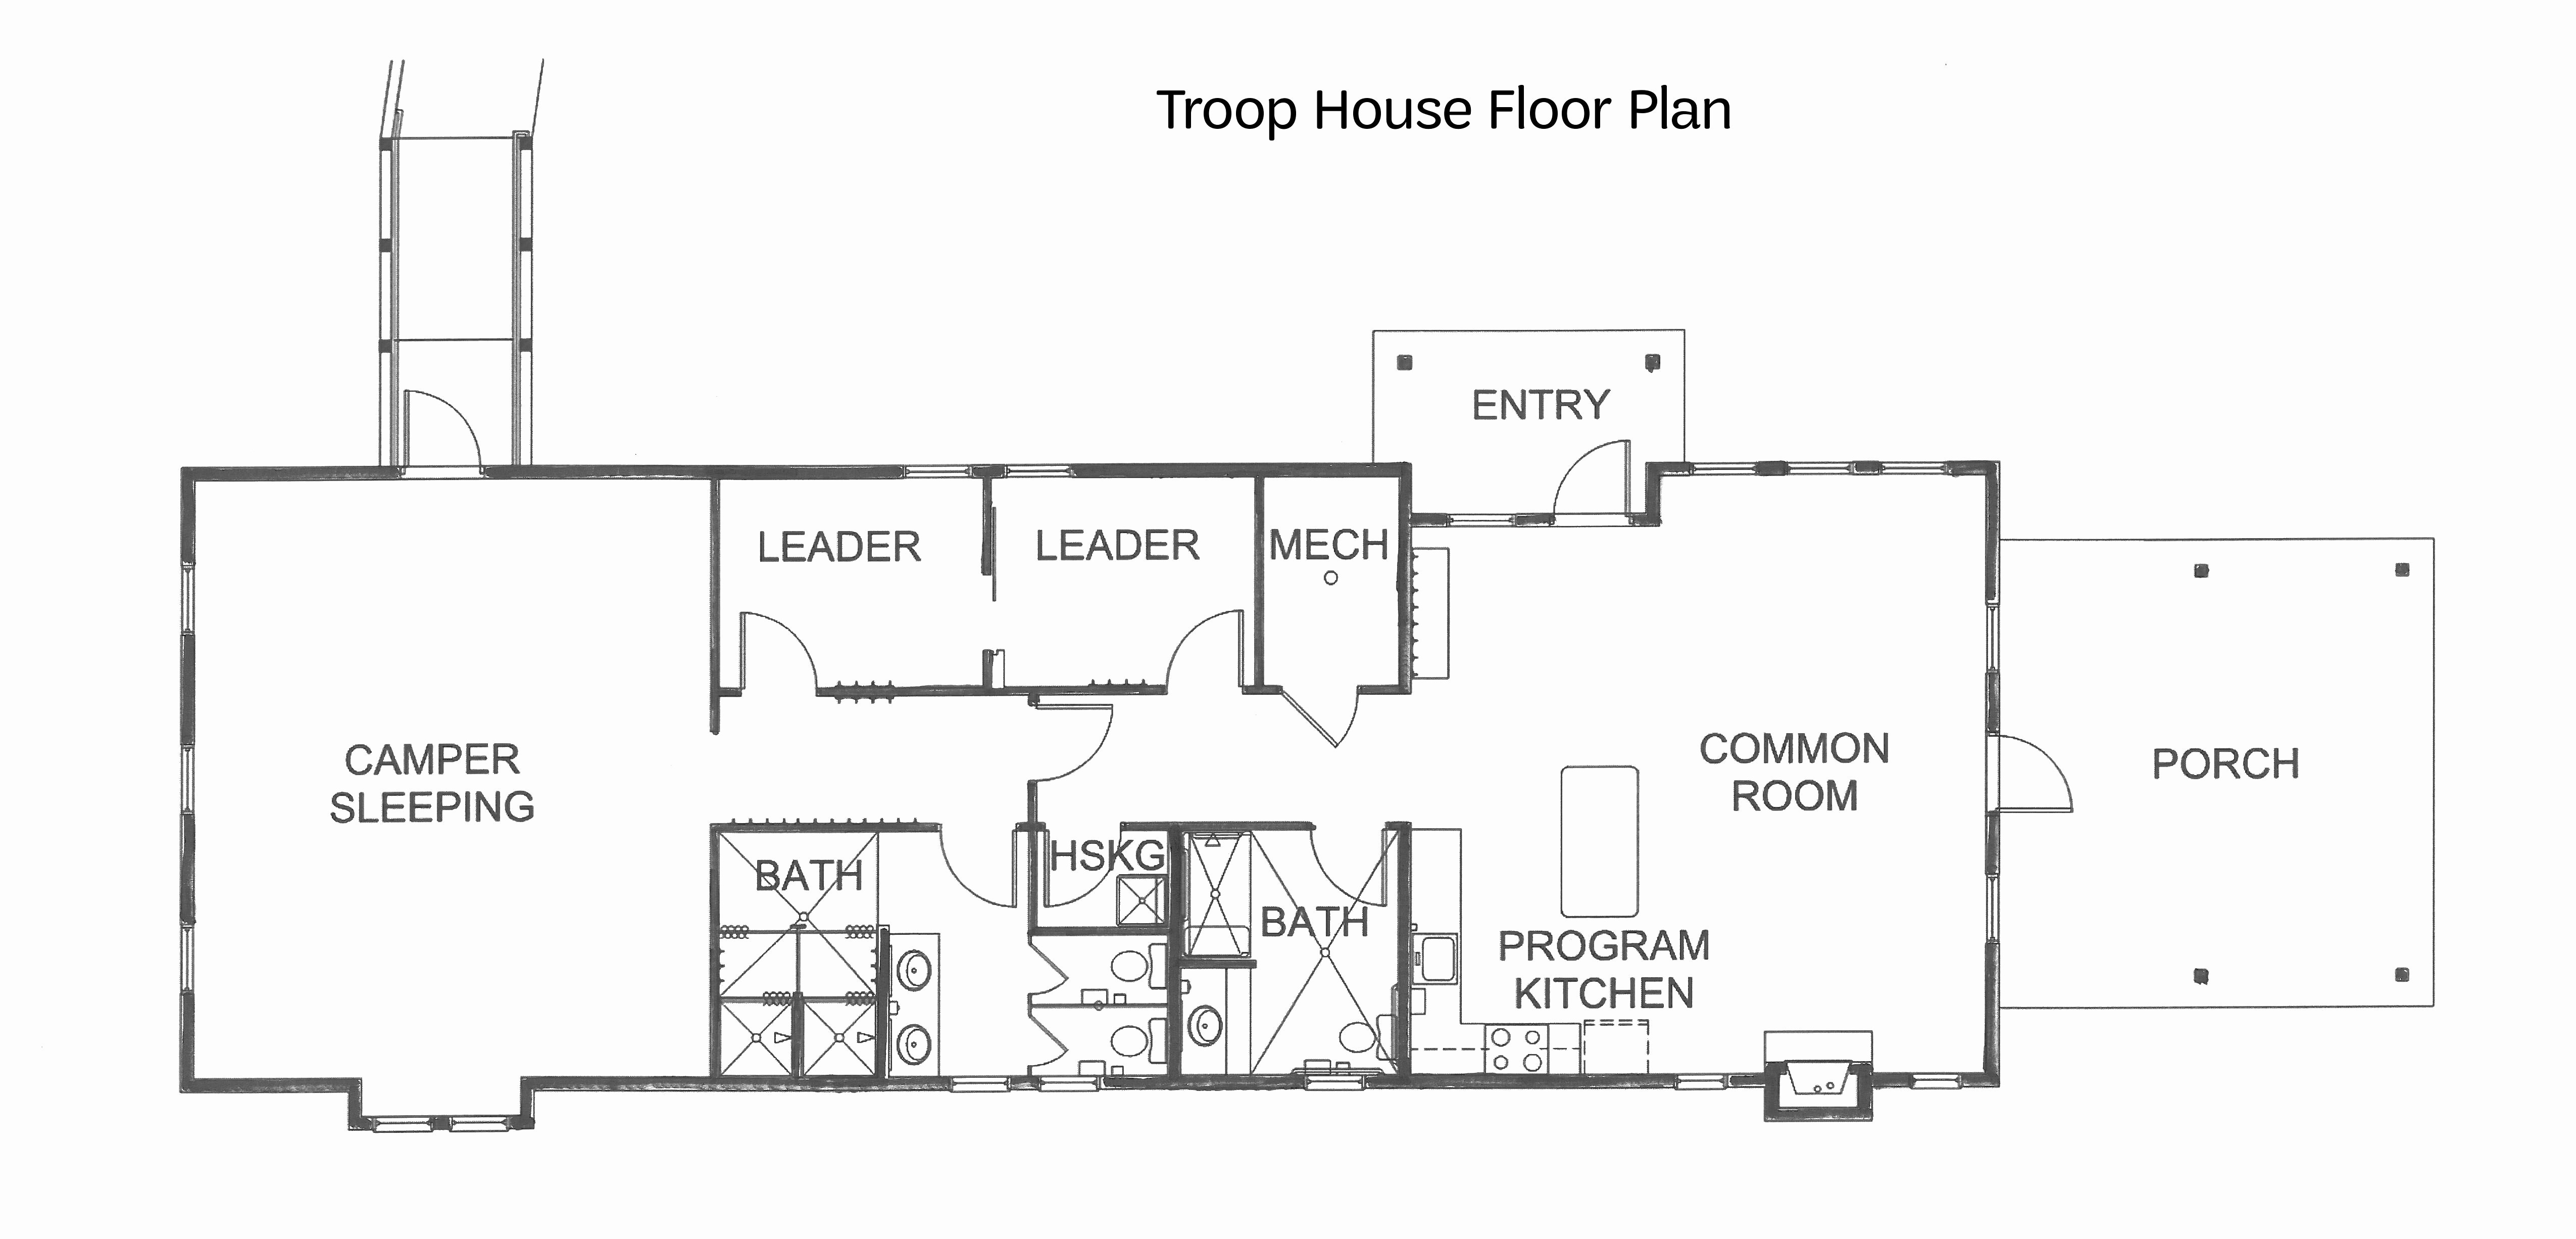room: (1400, 465, 1999, 1094), (172, 468, 736, 1101), (715, 818, 968, 1094), (1176, 825, 1423, 1093), (912, 851, 1150, 1068), (733, 498, 966, 675), (1012, 498, 1239, 667), (1278, 483, 1382, 682)
